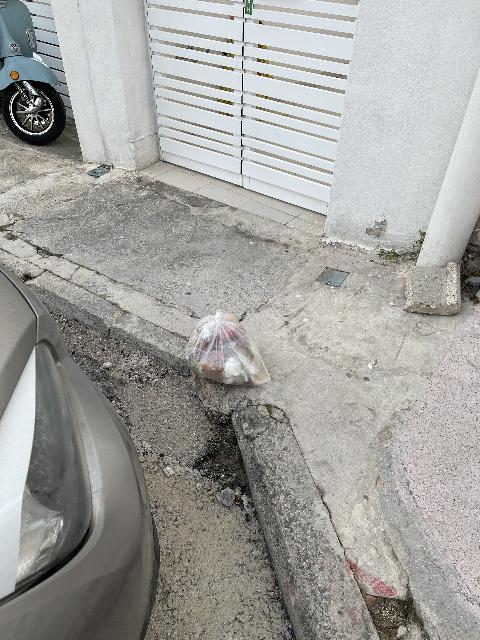Organic -White-: (186, 310, 271, 385)
Recyclable -Grey-: (225, 360, 231, 367)
